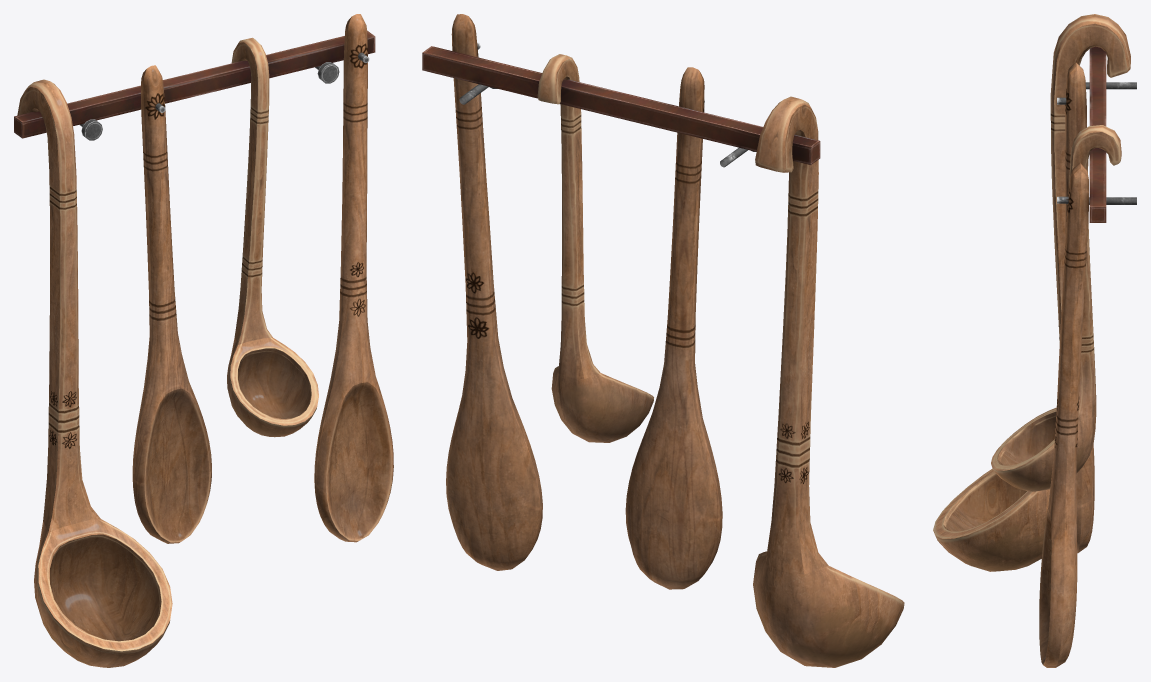
Rendered from wooden_ladles_and_spoons.glb.
3 views of the same model, side by side, from view 1: azimuth 30°, elevation 25°; view 2: azimuth 150°, elevation 25°; view 3: azimuth 270°, elevation 25° (orthographic). The views are drawn at different scales.
Visible parts, largest first — view 1: Object_2; view 2: Object_2; view 3: Object_2.
Boxes of the visible parts, x1,y1,x2,y2 form: Object_2: (14,14,393,667); Object_2: (422,14,904,667); Object_2: (933,14,1136,667).
Bounding box in the file's own units: 20.95 × 29.01 × 9.85.
Materials: 1 (1 with a texture image).
